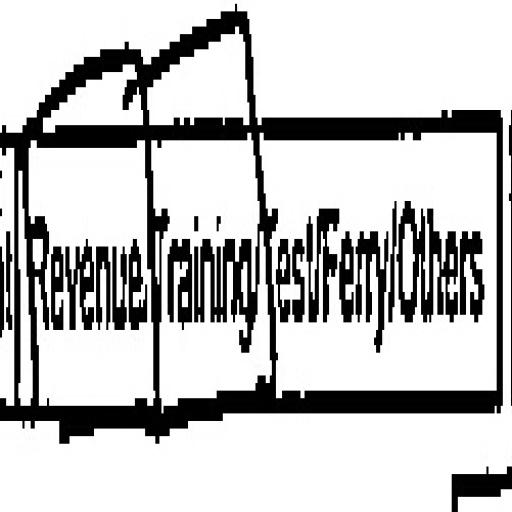check: (145, 0, 267, 470), (12, 53, 144, 485)
